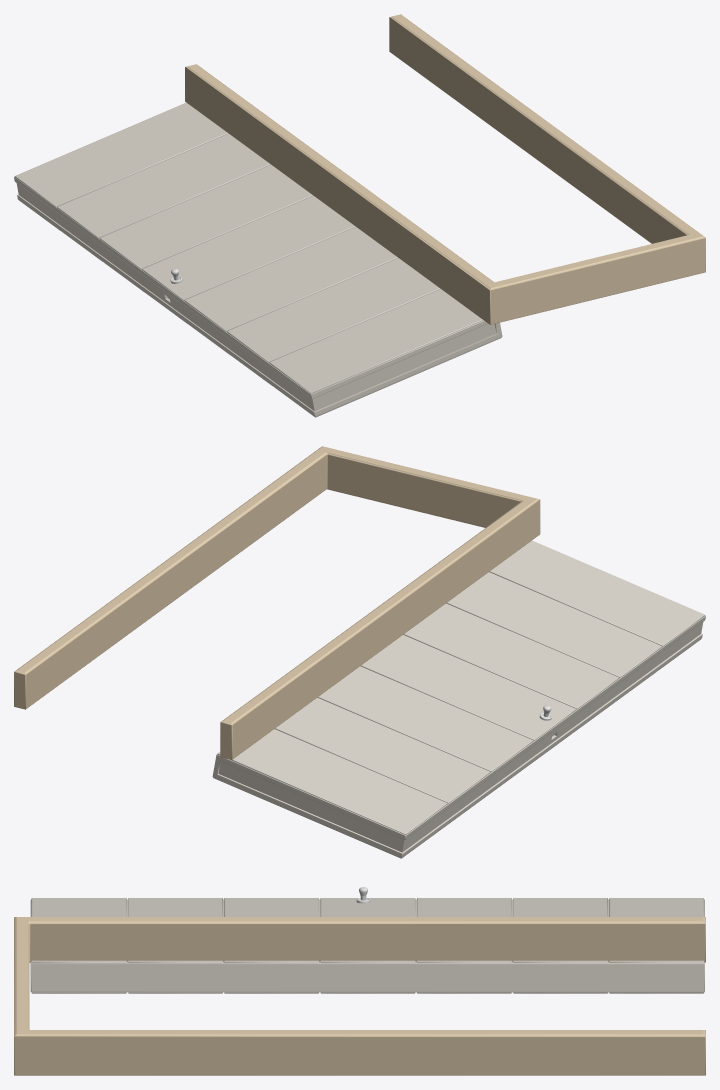
The model's file is doorKitchen.glb.
3 views of the same model, one above another, from view 1: azimuth 30°, elevation 25°; view 2: azimuth 150°, elevation 25°; view 3: azimuth 270°, elevation 25° (orthographic). The views are drawn at different scales.
Parts seen in each view (by area): view 1: Mesh1__1_0, Mesh6__2_0; view 2: Mesh1__1_0, Mesh6__2_0; view 3: Mesh6__2_0, Mesh1__1_0.
Boxes of the visible parts, x1,y1,x2,y2 form: Mesh1__1_0: [14, 102, 502, 417]; Mesh6__2_0: [185, 14, 705, 324]; Mesh1__1_0: [212, 540, 705, 858]; Mesh6__2_0: [14, 446, 540, 759]; Mesh6__2_0: [14, 917, 705, 1075]; Mesh1__1_0: [30, 898, 704, 993].
Bounding box in the file's own units: 5.21 × 1.32 × 7.11.
